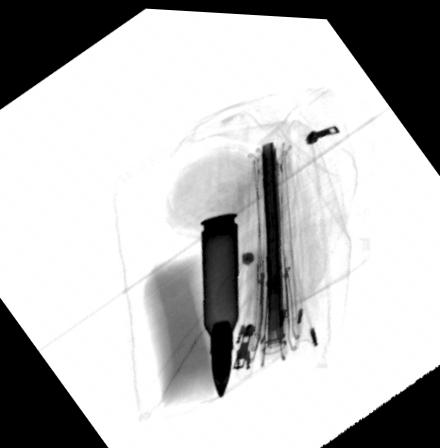Bullet: (199, 208, 241, 399)
